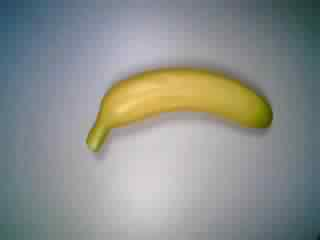banana: (83, 58, 279, 172)
